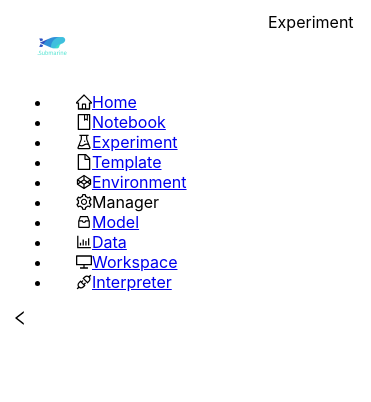
Router test › DataDict page router
Click the menu item "Manager" at (118, 202), box x1=76 y1=192 x2=159 y2=212
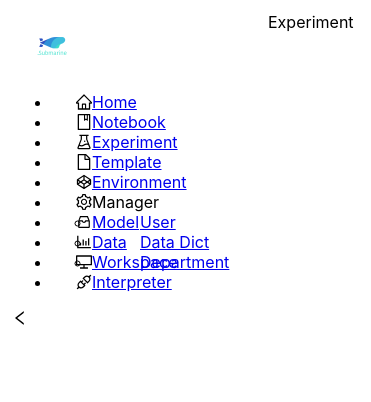
Click the link with test id "data_dict-link" at (175, 242), box x1=140 y1=232 x2=209 y2=252
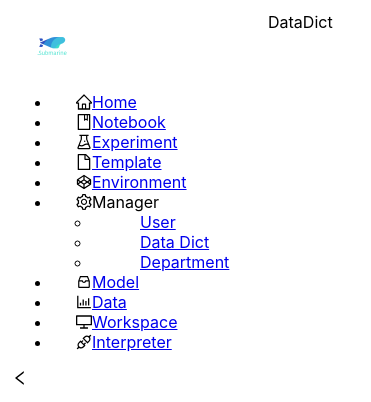
Now the element with test id "data_dict-page" is shown, box x1=268 y1=12 x2=333 y2=32
